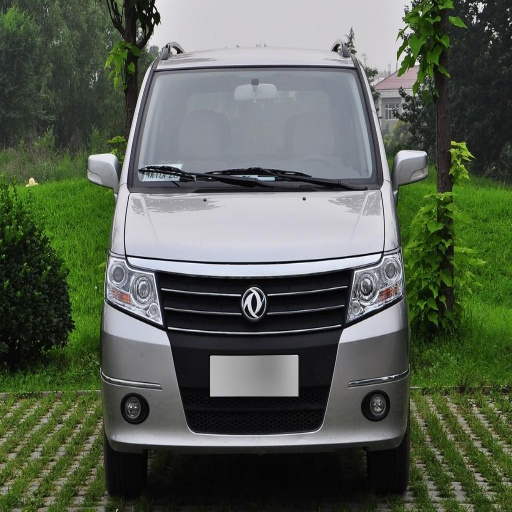front_bumper: (104, 253, 403, 447)
front_right_light: (108, 249, 162, 326)
hood: (123, 192, 384, 262)
left_mirror: (392, 150, 429, 186)
